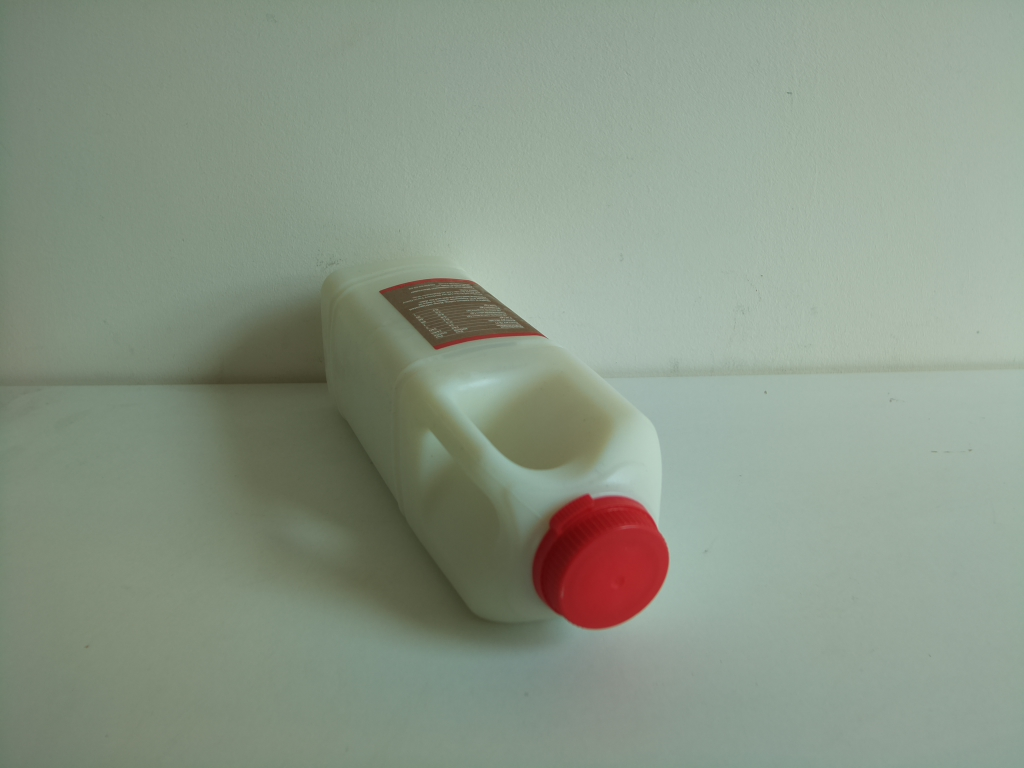milk: (315, 245, 675, 640)
